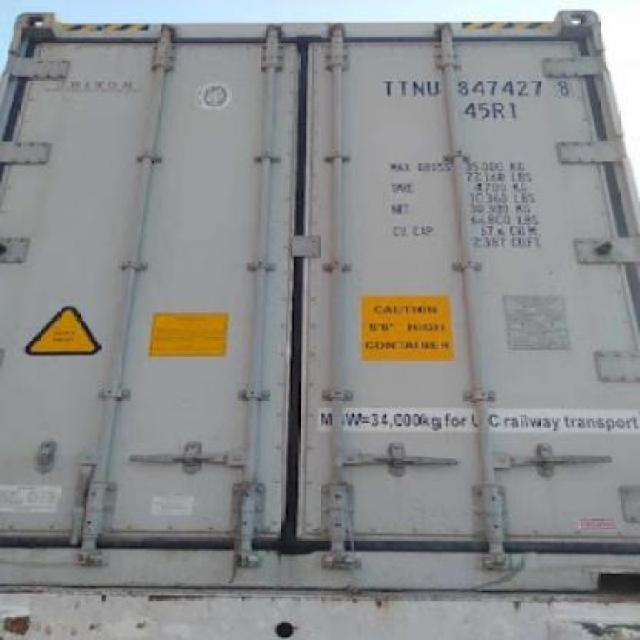ISO: (462, 102, 520, 122)
container_number: (386, 75, 572, 98)
